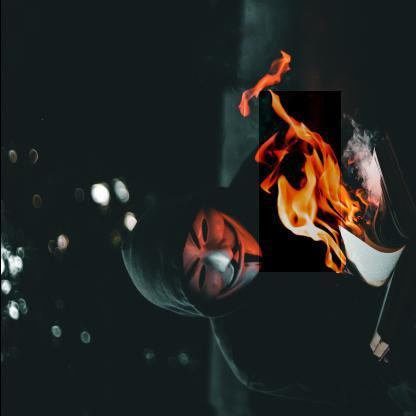Fire: (232, 63, 386, 266)
